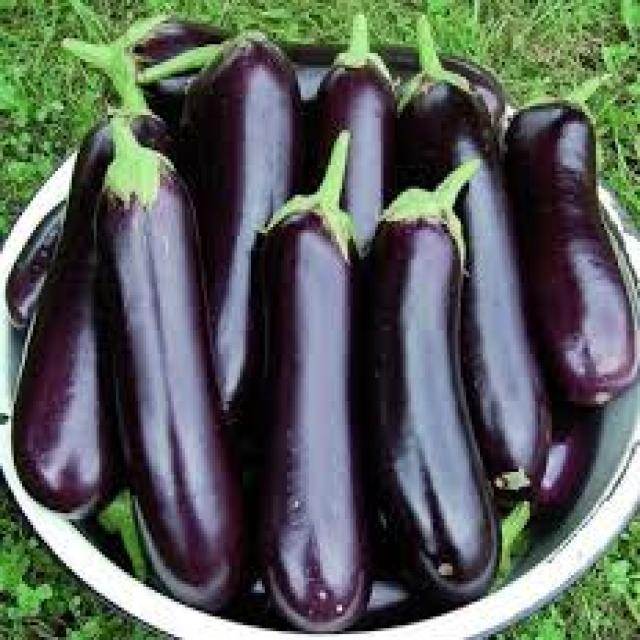eggplant: (64, 90, 259, 614), (125, 14, 295, 456), (239, 132, 384, 640), (364, 146, 482, 604), (501, 100, 640, 438), (317, 14, 421, 452), (398, 25, 509, 433)
